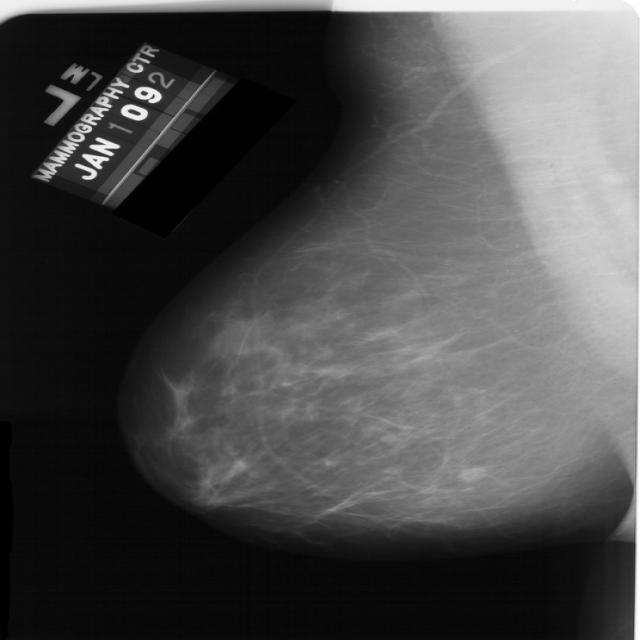tumour: (457, 465, 486, 482)
